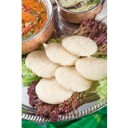idly: (25, 51, 57, 79), (37, 79, 71, 103), (42, 41, 75, 65), (56, 67, 91, 89), (62, 33, 96, 55), (77, 55, 105, 79)
